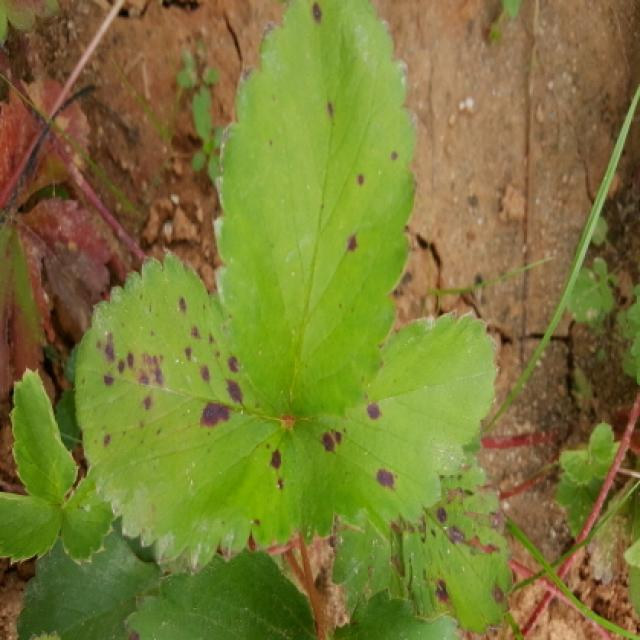Leaf Spot: (211, 0, 418, 419), (74, 252, 303, 574), (287, 311, 495, 544), (331, 441, 514, 634)
